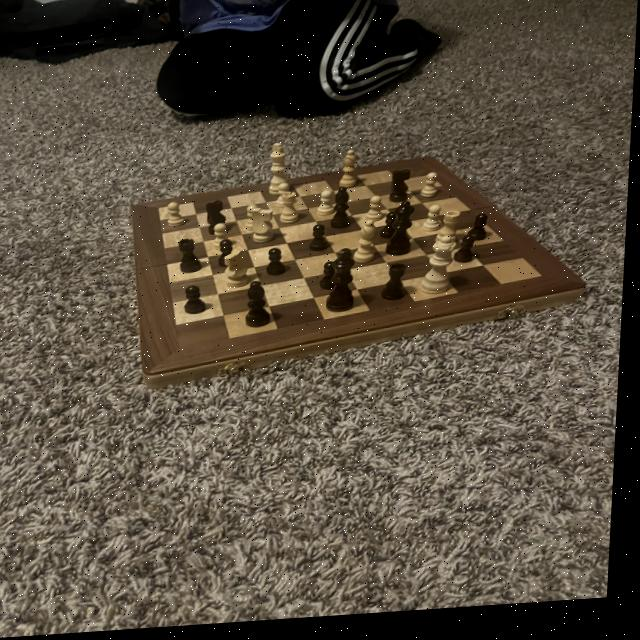bishop: (246, 282, 278, 333), (333, 190, 356, 235)
black-bishop: (327, 251, 363, 320)
black-king: (205, 202, 233, 237), (391, 174, 418, 209)
black-knight: (183, 286, 214, 319), (455, 239, 485, 271), (466, 218, 494, 250), (217, 241, 240, 272), (267, 250, 290, 281), (322, 265, 343, 298), (382, 217, 403, 247), (310, 229, 332, 257)
black-pawn: (388, 204, 420, 262)
black-queen: (384, 265, 412, 307), (179, 239, 209, 277)
black-rook: (355, 223, 386, 269), (339, 153, 364, 195)
white-bishop: (267, 144, 297, 200)
white-king: (222, 250, 255, 293), (252, 209, 283, 248)
white-knight: (418, 176, 443, 205), (318, 193, 341, 223), (213, 225, 235, 254), (425, 210, 447, 239), (243, 206, 265, 234), (169, 203, 190, 232), (370, 199, 389, 228), (278, 184, 298, 210)
white-pawn: (421, 241, 460, 303)
white-queen: (436, 215, 463, 251), (281, 194, 307, 229)
